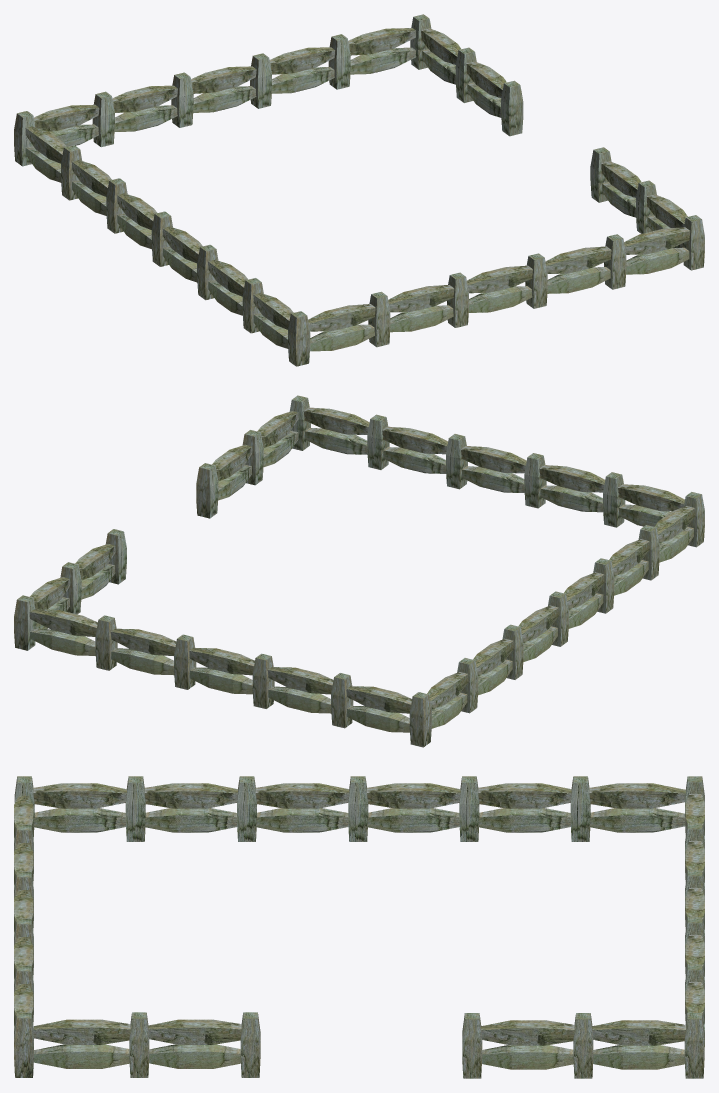
File: wood_fence.fbx
3 views of the same model, one above another, from view 1: azimuth 30°, elevation 25°; view 2: azimuth 150°, elevation 25°; view 3: azimuth 270°, elevation 25° (orthographic). The views are drawn at different scales.
Visible parts, largest first — view 1: Cube.002; view 2: Cube.002; view 3: Cube.002.
Boxes of the visible parts, x1,y1,x2,y2 form: Cube.002: (14,14,704,366); Cube.002: (14,395,704,747); Cube.002: (14,776,704,1078).
Size of the model in its own units: 5219 by 583 by 6214.
